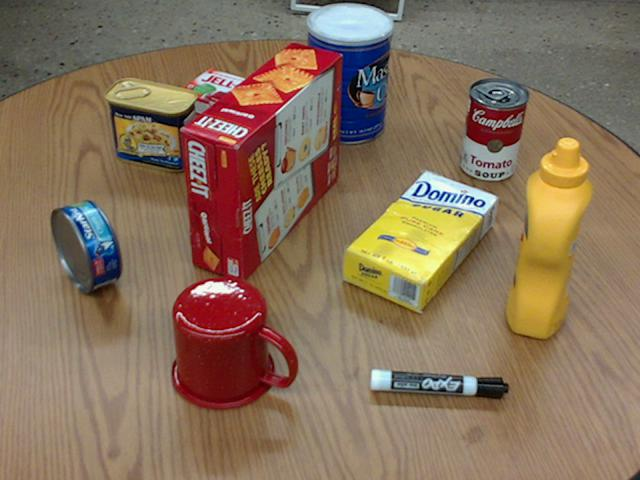cracker_box: (181, 41, 339, 281)
gelatin_box: (177, 67, 264, 122)
large_marker: (370, 370, 508, 398)
master_chef_can: (305, 3, 391, 142)
mug: (172, 276, 295, 409)
mustard_bottle: (507, 138, 592, 338)
potted_meat_can: (105, 77, 197, 169)
sugar_box: (342, 172, 498, 309)
tomato_soup_can: (460, 78, 528, 181)
tuna_fish_can: (51, 200, 122, 291)
